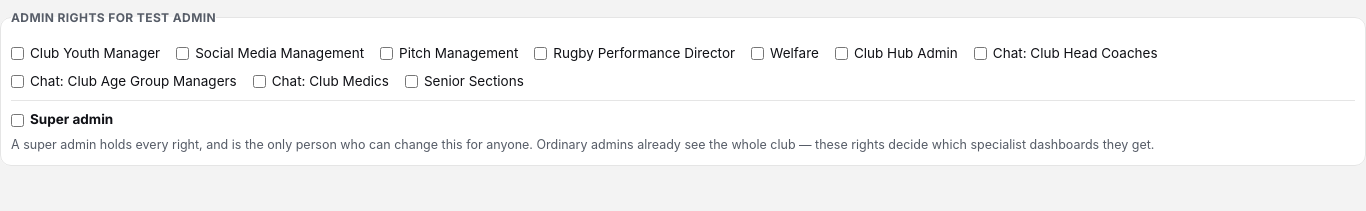
Test: assigning admin rights › ⚠️ PUTS THE TICK BACK when the write is refused
Click the checkbox labelled "Pitch Management" at (387, 54), box [380,48,393,60]
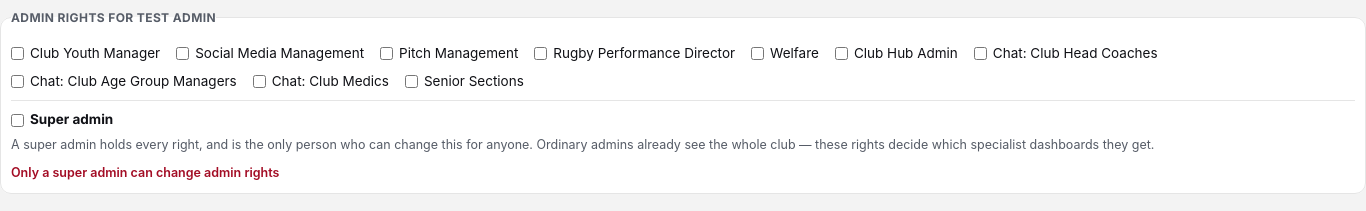
expect the text "Only a super admin can change admin rights" is shown: met, box [11,165,279,180]
